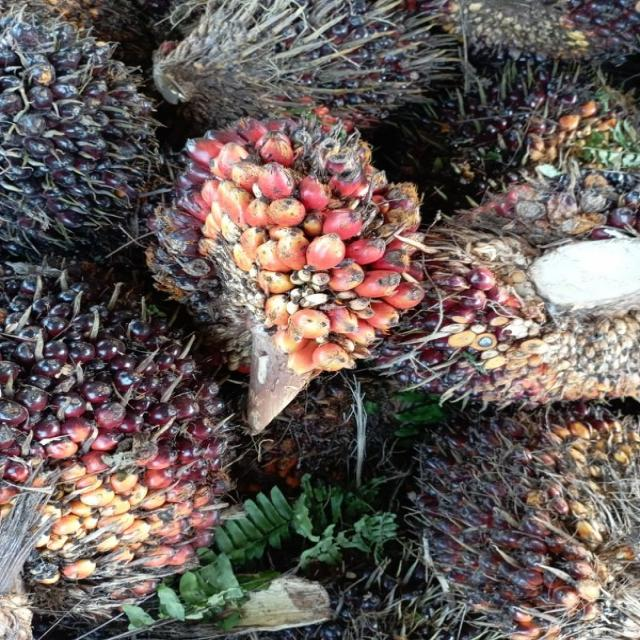fraksi 3: (98, 88, 492, 448)
